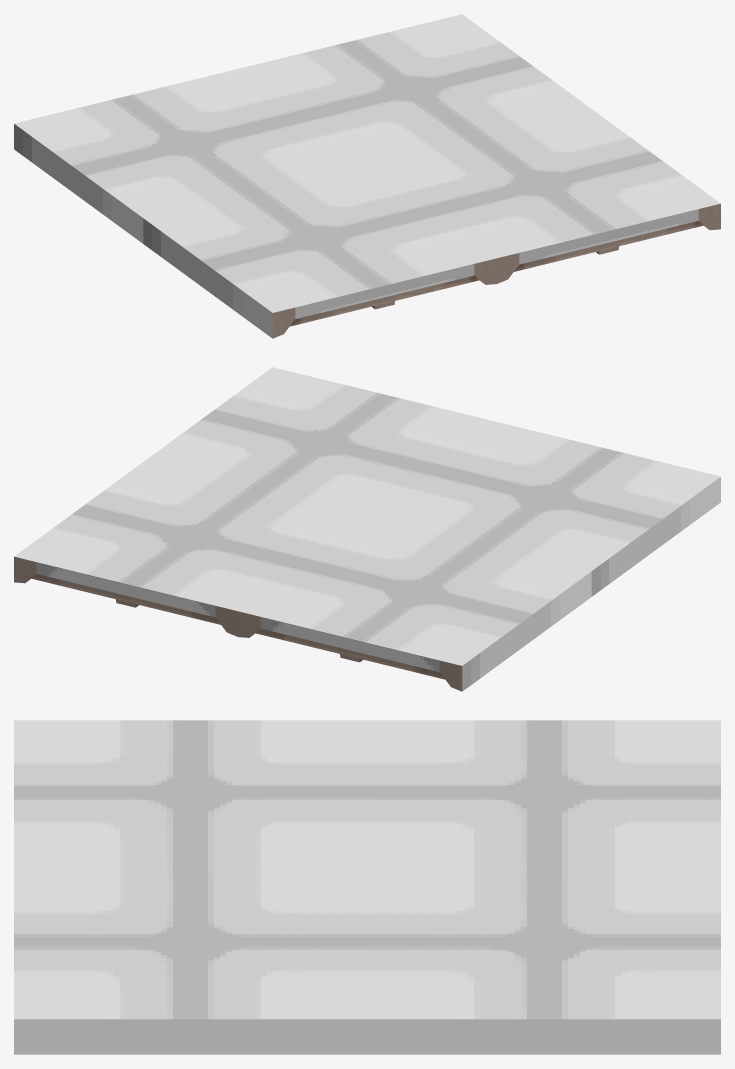
Rendered from SM_Ceiling_Wooden_02.fbx.
The picture shows the model from 3 angles, top to bottom: view 1: azimuth 30°, elevation 25°; view 2: azimuth 150°, elevation 25°; view 3: azimuth 270°, elevation 25°; orthographic projection. The views are drawn at different scales.
Visible parts, largest first — view 1: SM_Ceiling_Wooden_02; view 2: SM_Ceiling_Wooden_02; view 3: SM_Ceiling_Wooden_02.
Boxes of the visible parts, x1,y1,x2,y2 form: SM_Ceiling_Wooden_02: (14, 14, 720, 338); SM_Ceiling_Wooden_02: (14, 367, 720, 691); SM_Ceiling_Wooden_02: (14, 720, 720, 1054).
Size of the model in its own units: 1000 by 1000 by 67.39.
